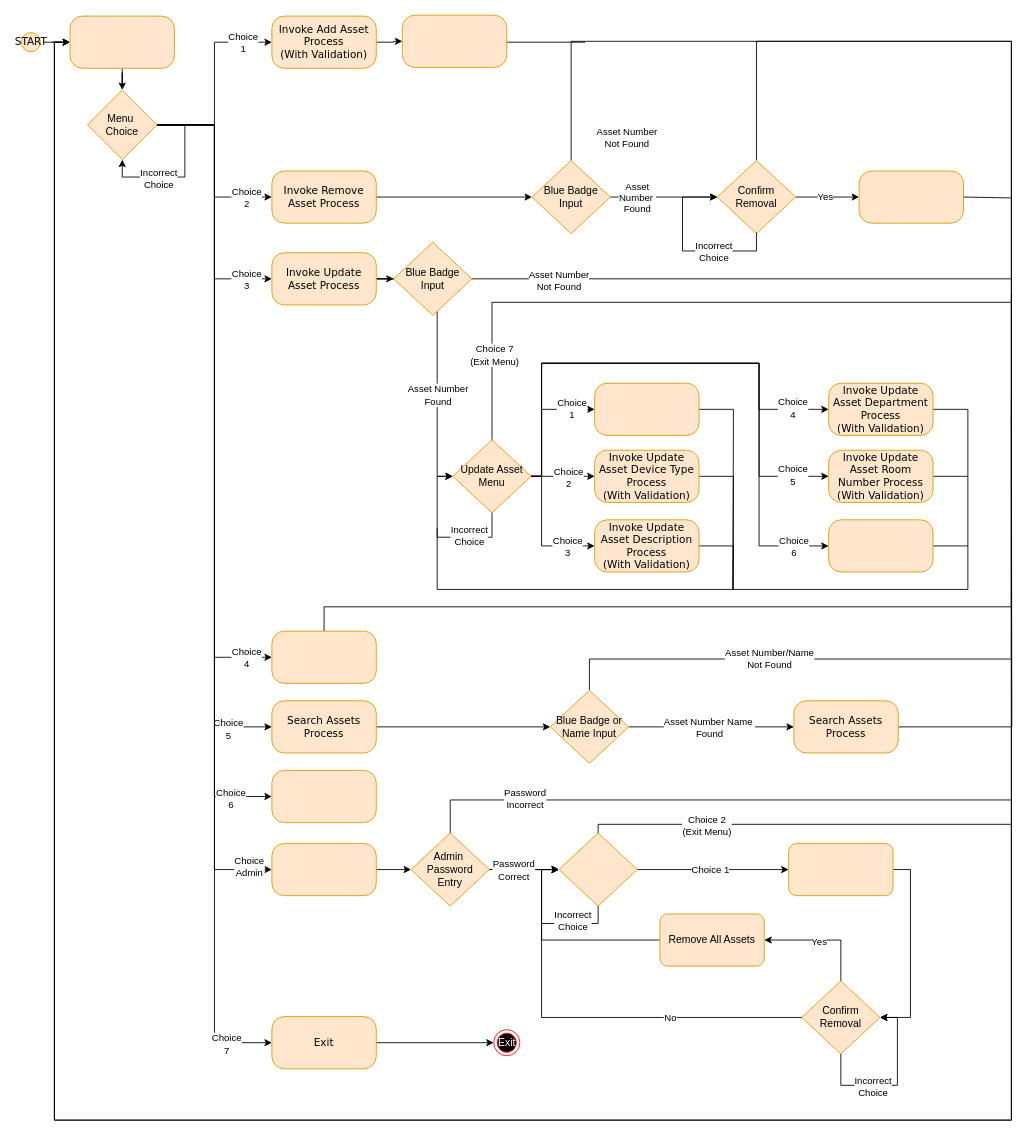
This 1034x1142 diagram has some shape labels left out. The shapes that lost their labels are listed below. From the top down, each one's centre as x and y in pixels, then its label:
At pixel 121 41: "Display Menu Options".
At pixel 454 40: "Asset Added".
At pixel 911 196: "Asset Removed".
At pixel 646 408: "Invoke Update Asset Name Process (With Validation)".
At pixel 880 545: "Invoke Update Asset Note Process (With Validation)".
At pixel 323 656: "Display Assets Process".
At pixel 323 796: "Invoke Display Errors Process".
At pixel 323 869: "Invoke Admin Menu Process".
At pixel 597 869: "Admin Menu Choice".
At pixel 840 869: "Invoke Removal All Assets".
